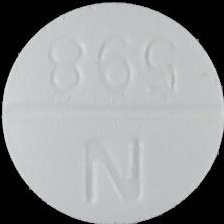35356-975: (0, 0, 224, 224)
